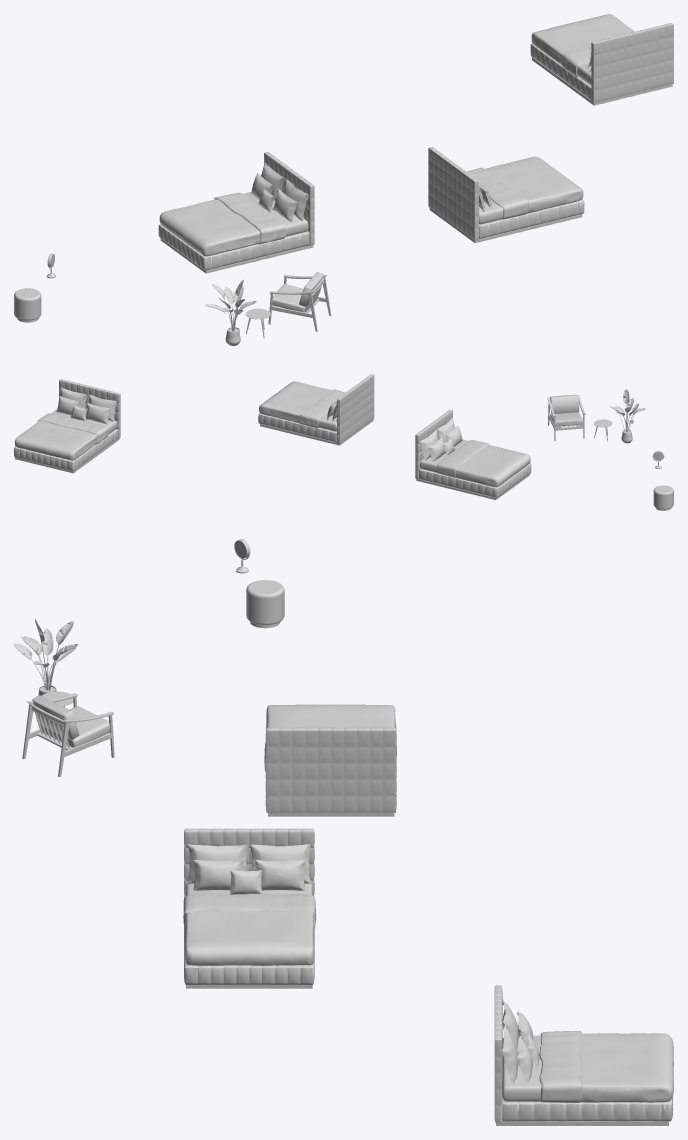
Rendered from EB03__Storey__FirstFloor__ProposedFurniture__MeshModel__.glb.
3 views of the same model, one above another, from view 1: azimuth 30°, elevation 25°; view 2: azimuth 150°, elevation 25°; view 3: azimuth 270°, elevation 25° (orthographic). The views are drawn at different scales.
Parts seen in each view (by area): view 1: 28_21__BedroomFurniture__KingBed__Var-01__Whitecard___ID2229 (×2), 28_21__BedroomFurniture__KingBed__Var-01__Whitecard___ID2217, 28__ProposedBuilding__Furniture::Default, 29_21__Collection__BedroomDecor__KingBedPillows__Whitecard_1; view 2: 28_21__BedroomFurniture__KingBed__Var-01__Whitecard___ID2229 (×2), 28_21__BedroomFurniture__KingBed__Var-01__Whitecard___ID2217, 28__ProposedBuilding__Furniture::Default, 29_21__Collection__BedroomDecor__KingBedPillows__Whitecard_1 (×2); view 3: 28_21__BedroomFurniture__KingBed__Var-01__Whitecard___ID2229 (×2), 28_21__BedroomFurniture__KingBed__Var-01__Whitecard___ID2217, 28__ProposedBuilding__Furniture::Default, 29_21__Collection__BedroomDecor__KingBedPillows__Whitecard_1.
Part boxes in pixels (x1,y1,x2,y2): 28_21__BedroomFurniture__KingBed__Var-01__Whitecard___ID2229 (×2): (428,14,673,242); 28_21__BedroomFurniture__KingBed__Var-01__Whitecard___ID2217: (158,152,314,273); 28__ProposedBuilding__Furniture::Default: (14,253,331,345); 29_21__Collection__BedroomDecor__KingBedPillows__Whitecard_1: (251,163,307,221); 28_21__BedroomFurniture__KingBed__Var-01__Whitecard___ID2229 (×2): (14,374,374,473); 28_21__BedroomFurniture__KingBed__Var-01__Whitecard___ID2217: (415,409,531,499); 28__ProposedBuilding__Furniture::Default: (547,389,673,510); 29_21__Collection__BedroomDecor__KingBedPillows__Whitecard_1 (×2): (57,389,462,460); 28_21__BedroomFurniture__KingBed__Var-01__Whitecard___ID2229 (×2): (183,828,673,1125); 28_21__BedroomFurniture__KingBed__Var-01__Whitecard___ID2217: (264,704,396,816); 28__ProposedBuilding__Furniture::Default: (14,539,284,776); 29_21__Collection__BedroomDecor__KingBedPillows__Whitecard_1: (188,844,309,894).
Bounding box in the file's own units: 14.14 × 1.33 × 7.82.
Materials: 2 (1 with a texture image).
